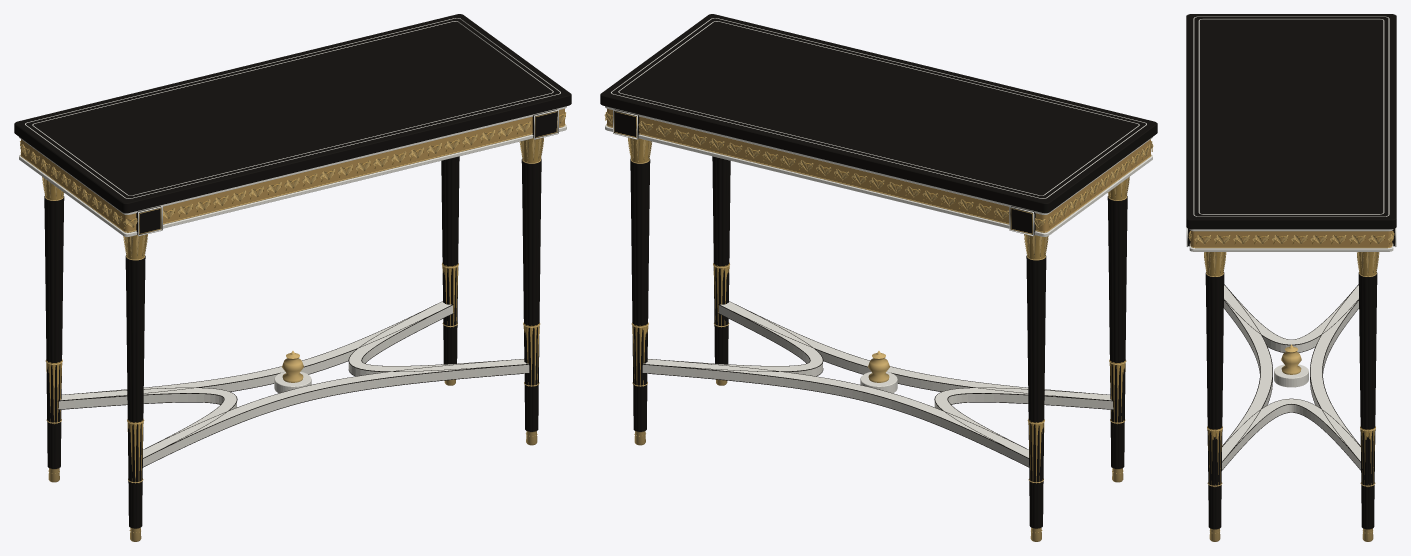
3 views of the same model, side by side, from view 1: azimuth 30°, elevation 25°; view 2: azimuth 150°, elevation 25°; view 3: azimuth 270°, elevation 25° (orthographic). The views are drawn at different scales.
Parts seen in each view (by area): view 1: Wellington compact console | consoles-17 web batch; view 2: Wellington compact console | consoles-17 web batch; view 3: Wellington compact console | consoles-17 web batch.
Boxes of the visible parts, x1,y1,x2,y2 form: Wellington compact console | consoles-17 web batch: [14, 14, 571, 541]; Wellington compact console | consoles-17 web batch: [600, 14, 1157, 541]; Wellington compact console | consoles-17 web batch: [1186, 14, 1396, 541].
Size of the model in its own units: 1.09 by 0.8203 by 0.47.
